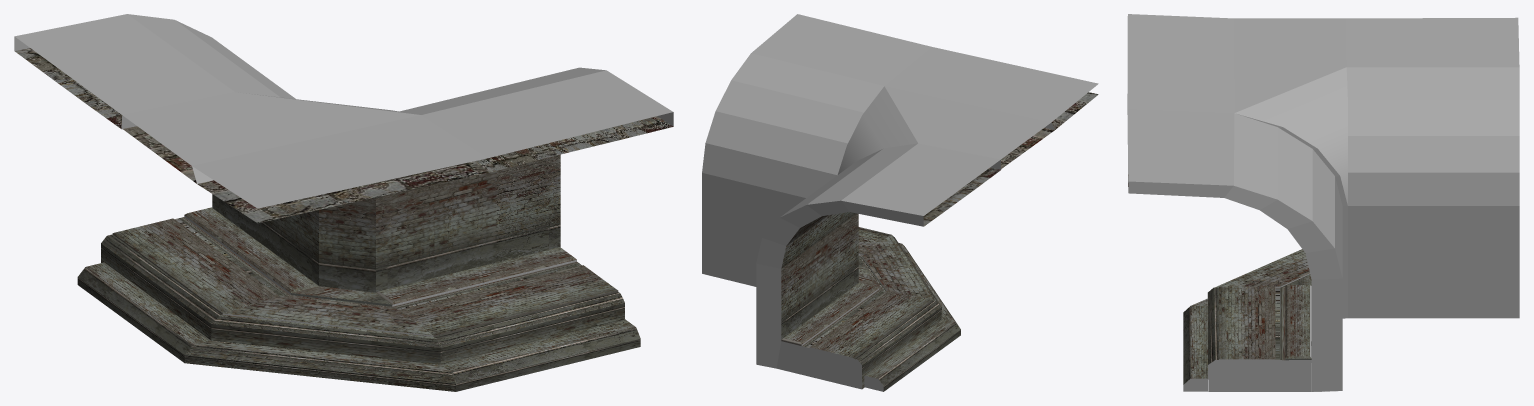
Rendered from Corner.fbx.
3 renders of one model, left to right at view 1: azimuth 30°, elevation 25°; view 2: azimuth 150°, elevation 25°; view 3: azimuth 270°, elevation 25°, orthographic. The views are drawn at different scales.
Parts seen in each view (by area): view 1: polySurface40; view 2: polySurface40; view 3: polySurface40.
Boxes of the visible parts, box(x1,y1,x2,y2) form: polySurface40: box(14, 14, 673, 391); polySurface40: box(702, 14, 1098, 391); polySurface40: box(1127, 14, 1519, 391).
Size of the model in its own units: 37.33 by 22.67 by 37.63.
2 materials, 1 textured.
